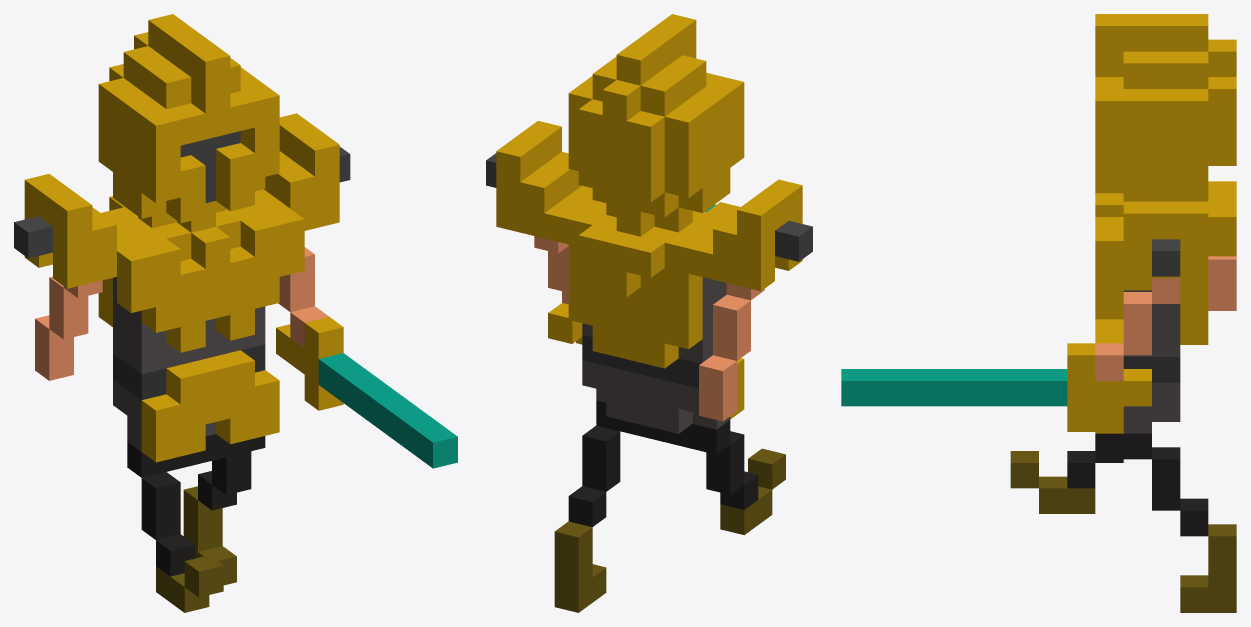
File: SwingingGoldKnightChar-2.obj
3 renders of one model, left to right at view 1: azimuth 30°, elevation 25°; view 2: azimuth 150°, elevation 25°; view 3: azimuth 270°, elevation 25°, orthographic. The views are drawn at different scales.
Visible parts, largest first — view 1: SwingingGoldKnightChar-2; view 2: SwingingGoldKnightChar-2; view 3: SwingingGoldKnightChar-2.
Part boxes in pixels (x1,y1,x2,y2): SwingingGoldKnightChar-2: (14, 14, 457, 612); SwingingGoldKnightChar-2: (486, 14, 812, 612); SwingingGoldKnightChar-2: (841, 14, 1236, 612).
Bounding box in the file's own units: 13 × 22 × 14.
1 material, 1 textured.
